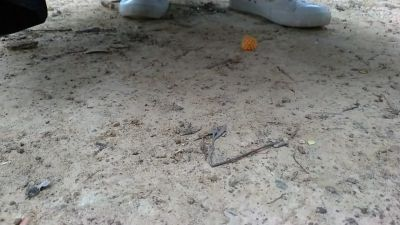eggs: (240, 30, 260, 54)
